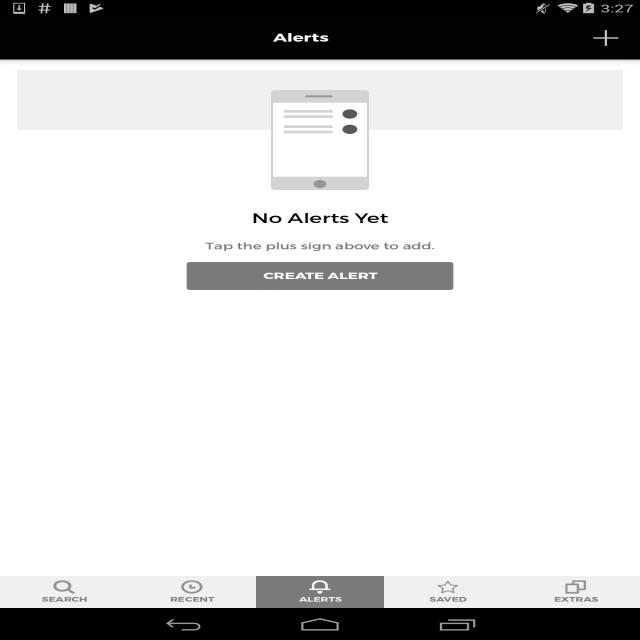Button: (187, 262, 453, 290)
ImageView: (271, 90, 369, 190), (53, 580, 75, 594), (181, 580, 203, 594), (309, 580, 331, 594), (437, 580, 459, 594), (565, 580, 587, 594)
TextView: (17, 210, 623, 227), (26, 30, 572, 46), (17, 240, 623, 252), (580, 22, 632, 54), (13, 595, 115, 604), (141, 595, 243, 604), (269, 595, 371, 604), (397, 595, 499, 604), (525, 595, 627, 604)
